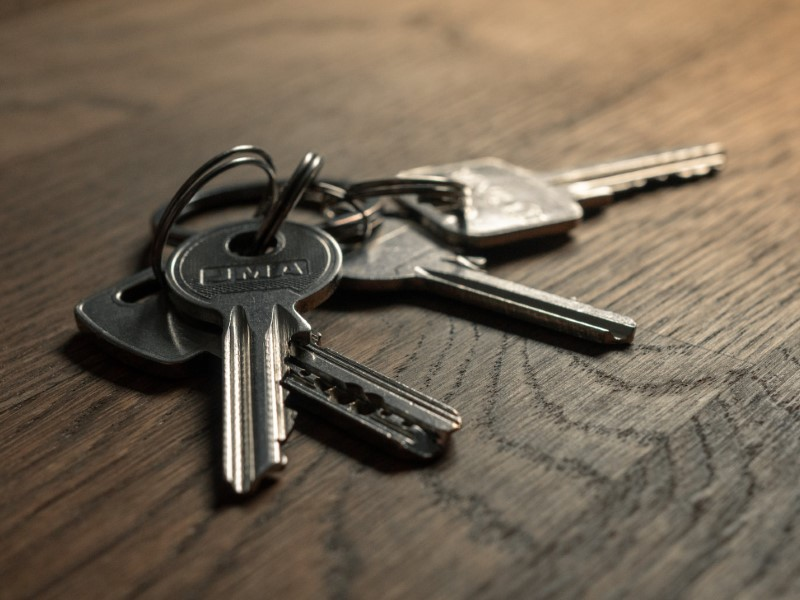key: (66, 134, 728, 500)
